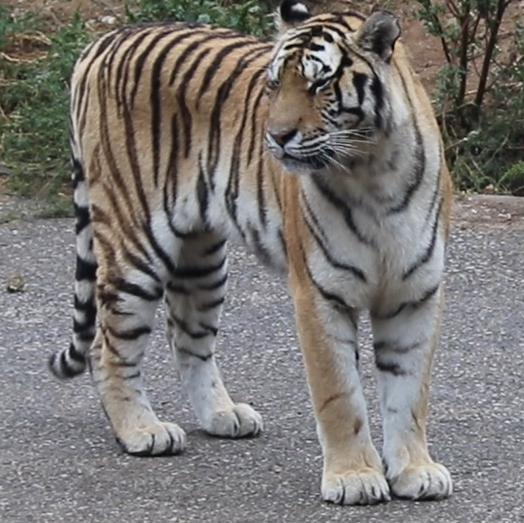tiger: (49, 0, 452, 504)
